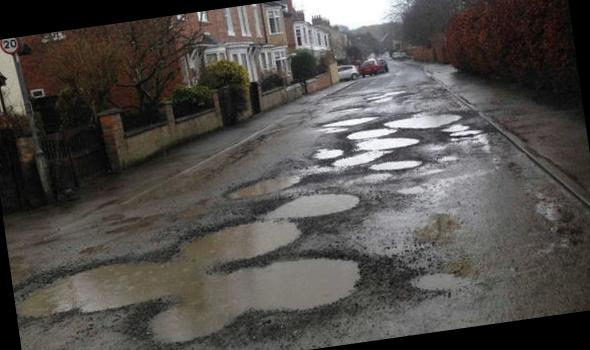pothole: (98, 240, 387, 350), (14, 250, 190, 338), (168, 207, 314, 272), (260, 178, 364, 234), (402, 254, 467, 302), (226, 164, 306, 202), (384, 102, 472, 135), (437, 116, 496, 152), (370, 150, 434, 180), (106, 206, 166, 238), (162, 196, 220, 228), (330, 144, 391, 174), (311, 111, 385, 133), (380, 179, 436, 208), (358, 132, 424, 154), (360, 86, 411, 108), (350, 123, 402, 142), (310, 142, 346, 164), (325, 102, 367, 116), (436, 146, 462, 165)
